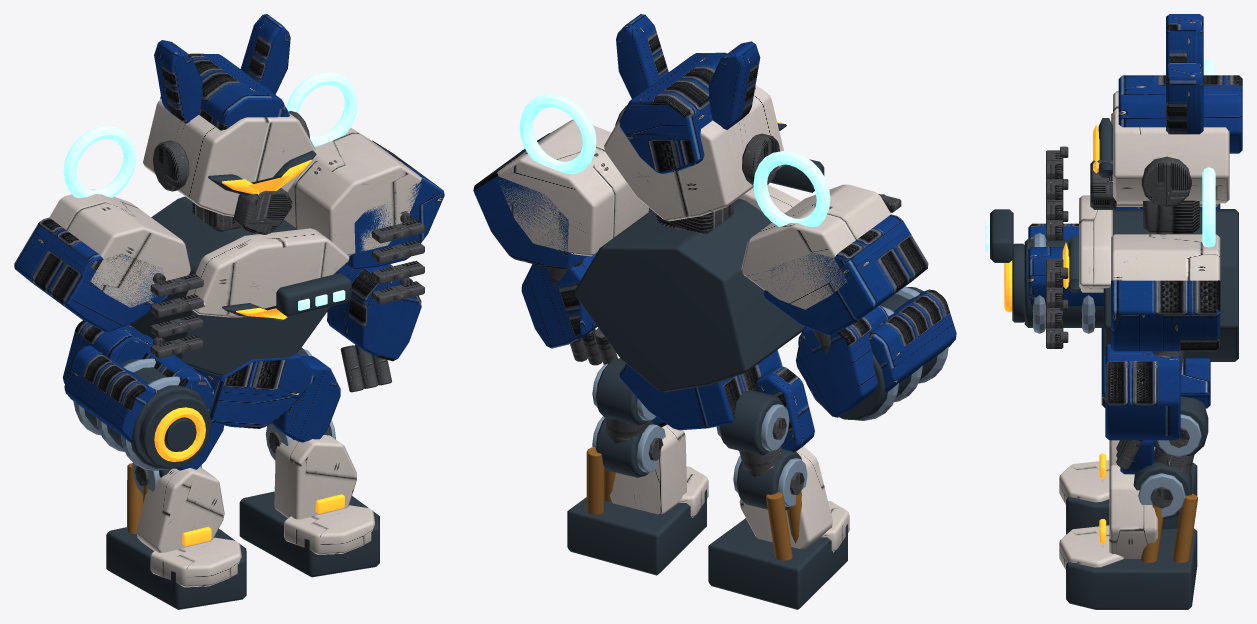
Rendered from patrol_0.glb.
3 renders of one model, left to right at view 1: azimuth 30°, elevation 25°; view 2: azimuth 150°, elevation 25°; view 3: azimuth 270°, elevation 25°, orthographic. The views are drawn at different scales.
Parts seen in each view (by area): view 1: Navy crown, Cuirass yoke, Angular scout torso, Neck actuator, Greave armor, Greave armor.001, Servo housing.004, Patrol halo, Servo housing.001, Tapered thigh shield.001, Recessed V optic, Bearing ring (+1 smaller); view 2: Navy crown, Cuirass yoke, Angular scout torso, Servo housing.001, Servo housing.004, Patrol halo, Greave armor.001, Neck actuator, Greave armor, Tapered thigh shield, Bearing ring.002, Calf piston (+5 smaller); view 3: Navy crown, Cuirass yoke, Angular scout torso, Neck actuator, Servo housing.004, Greave armor.001, Greave armor, Bearing ring.008, Calf piston.002, Servo housing.001, Patrol halo, Hub.008 (+3 smaller).
Part boxes in pixels (x1,y1,x2,y2): Navy crown: (14,14,444,443); Cuirass yoke: (49,98,421,317); Angular scout torso: (73,150,351,468); Neck actuator: (150,111,424,392); Greave armor: (136,467,241,587); Greave armor.001: (274,435,374,554); Servo housing.004: (239,347,379,577); Patrol halo: (63,72,357,310); Servo housing.001: (106,469,246,609); Tapered thigh shield.001: (271,356,340,442); Recessed V optic: (154,159,311,461); Bearing ring: (74,358,180,470); Navy crown: (473,14,956,430); Cuirass yoke: (497,85,890,309); Angular scout torso: (575,123,937,420); Servo housing.001: (708,390,847,609); Servo housing.004: (567,358,706,575); Patrol halo: (519,94,830,227); Greave armor.001: (609,424,708,517); Neck actuator: (548,105,901,365); Greave armor: (739,446,849,552); Tapered thigh shield: (756,366,814,451); Bearing ring.002: (716,404,807,506); Calf piston: (766,491,801,560); Navy crown: (1028,14,1242,440); Cuirass yoke: (1079,91,1229,292); Angular scout torso: (990,118,1238,361); Neck actuator: (1046,146,1199,468); Servo housing.004: (1066,396,1208,609); Greave armor.001: (1059,464,1157,569); Greave armor: (1059,440,1155,504); Bearing ring.008: (1138,414,1201,517); Calf piston.002: (1141,493,1197,562); Servo housing.001: (1066,462,1197,534); Patrol halo: (985,59,1215,251); Hub.008: (1150,427,1194,508).
Bounding box in the file's own units: 1.17 × 1.52 × 0.6845.
Materials: 8 (3 with a texture image).
